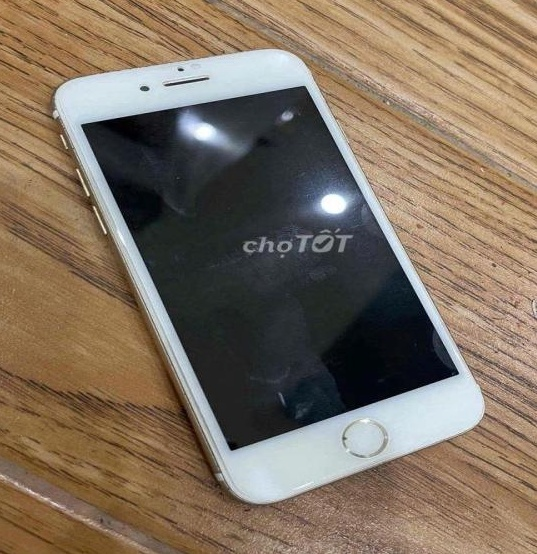scratch: (125, 283, 218, 452), (91, 54, 243, 74), (339, 434, 360, 441)
